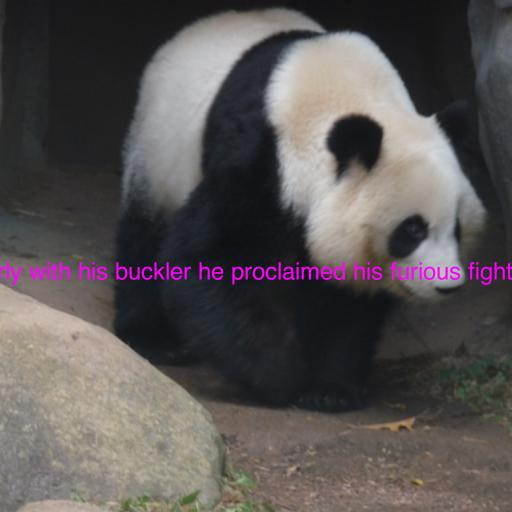Apple Chancery: (0, 262, 512, 285)
